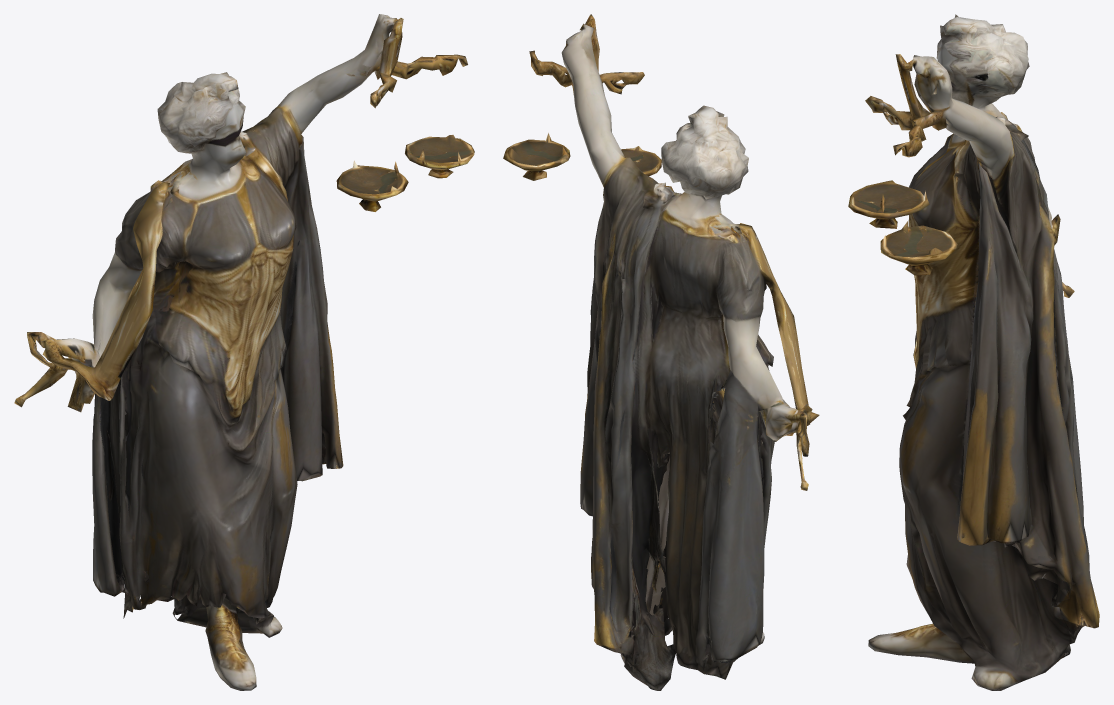
File: abstract-1.glb
3 views of the same model, side by side, from view 1: azimuth 30°, elevation 25°; view 2: azimuth 150°, elevation 25°; view 3: azimuth 270°, elevation 25° (orthographic). The views are drawn at different scales.
Bounding box in the file's own units: 1.3 × 2 × 0.6703.
Materials: 1 (1 with a texture image).
